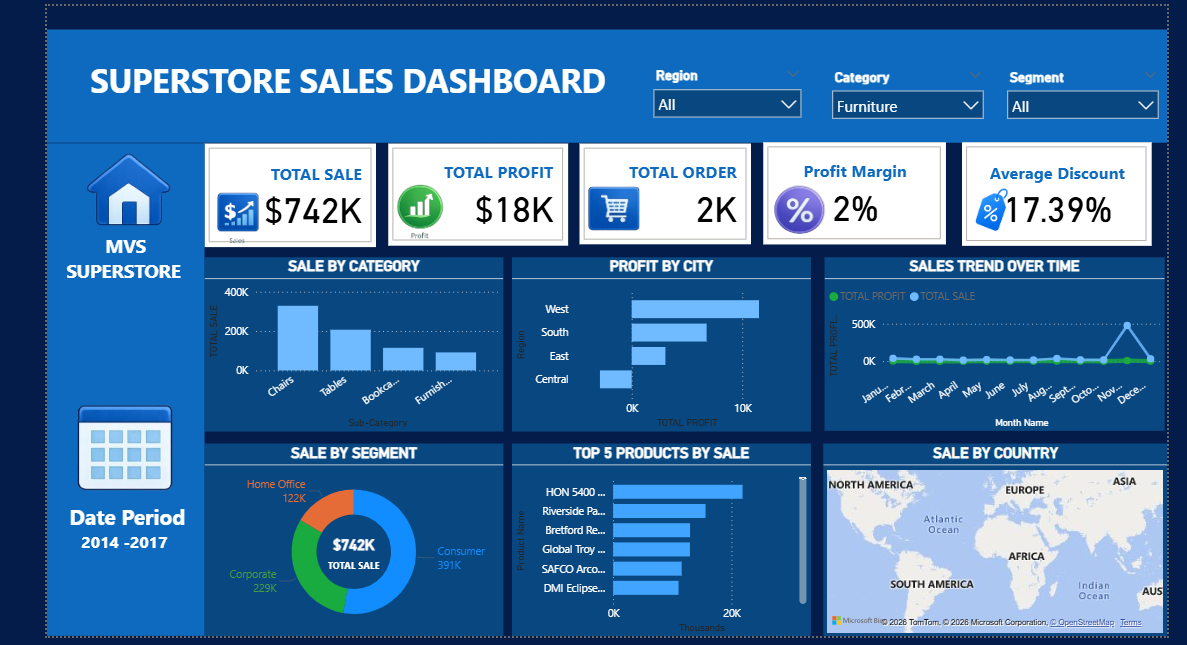

This screenshot's page, from the dashboard's own definition file:
{"tool":"powerbi","page":{"name":"Page 1","canvas":[1280,720],"ordinal":0},"visuals":[{"type":"shape","box":[0,27.4,1280.3,129],"z":0},{"type":"textbox","box":[62.9,27.1,715.7,101.4],"z":1000},{"type":"cardVisual","fields":{"Data":["Sample - Superstore.TOTAL SALE"]},"box":[179.8,156.4,196.2,118],"z":2000},{"type":"cardVisual","fields":{"Data":["Sample - Superstore.TOTAL PROFIT"]},"box":[389.7,157.8,205.8,116.6],"z":3000},{"type":"cardVisual","fields":{"Data":["Sample - Superstore.TOTAL ORDER"]},"box":[609.3,156.4,196.2,115.3],"z":4000},{"type":"cardVisual","fields":{"Data":["Sample - Superstore.Average Discount %"]},"box":[1045.6,155.1,216.8,118],"z":5000},{"type":"columnChart","title":" SALE BY CATEGORY","fields":{"Category":["Sample - Superstore.Sub-Category"],"Y":["Sample - Superstore.TOTAL SALE"]},"box":[179.8,286.8,341.7,199],"z":6000},{"type":"clusteredBarChart","title":"PROFIT BY CITY","fields":{"Y":["Sample - Superstore.TOTAL PROFIT"],"Category":["Sample - Superstore.Region"]},"box":[531,286.8,341.7,199],"z":7000},{"type":"lineChart","title":"SALES TREND OVER TIME","fields":{"Y":["Sample - Superstore.TOTAL PROFIT","Sample - Superstore.TOTAL SALE"],"Category":["Sample - Superstore.Month Name"]},"box":[888.6,287.1,388.6,198.6],"z":8000},{"type":"donutChart","title":" SALE BY SEGMENT","fields":{"Y":["Sum(Sample - Superstore.Sales)"],"Category":["Sample - Superstore.Segment"]},"box":[179.8,499.5,341.7,220.9],"z":9000},{"type":"clusteredBarChart","title":"TOP 5 PRODUCTS BY SALE ","fields":{"Category":["Sample - Superstore.Product Name"],"Y":["Sum(Sample - Superstore.Sales)"]},"box":[531,499.5,341.7,220.9],"z":10000},{"type":"filledMap","title":"SALE BY COUNTRY","fields":{"Series":["Sample - Superstore.Sales"],"Category":["Sample - Superstore.Region"]},"box":[886.5,499.5,393.8,220.9],"z":11000},{"type":"slicer","fields":{"Values":["Sample - Superstore.Region"]},"box":[683.4,65.9,189.4,63.1],"z":12000},{"type":"slicer","fields":{"Values":["Sample - Superstore.Category"]},"box":[887.8,67.2,193.5,61.7],"z":13000},{"type":"slicer","fields":{"Values":["Sample - Superstore.Segment"]},"box":[1086.8,67.2,193.5,61.7],"z":14000},{"type":"cardVisual","fields":{"Data":["Sample - Superstore.Profit Margin"]},"box":[819.2,155.1,208.6,116.6],"z":15000},{"type":"shape","box":[0,157.8,179.8,562.6],"z":16000},{"type":"textbox","box":[0,253.9,179.8,105.7],"z":17000},{"type":"cardVisual","fields":{"Data":["Sample - Superstore.TOTAL SALE"]},"box":[299.1,588.7,104.3,68.6],"z":18000},{"type":"image","box":[180,168.6,75.7,134.3],"z":19000},{"type":"image","box":[312.9,195.7,228.6,78.6],"z":20000},{"type":"image","box":[12.9,424.3,154.3,152.9],"z":21000},{"type":"image","box":[608.6,171.4,90,101.4],"z":22000},{"type":"image","box":[818.6,187.1,82.9,92.9],"z":23000},{"type":"image","box":[10,154.3,180,118.6],"z":24000},{"type":"image","box":[1045.7,191.4,68.6,84.3],"z":25000},{"type":"textbox","box":[10,562.9,157.1,84.3],"z":26000},{"type":"textbox","box":[62.9,78.6,532.9,50],"z":27000}]}

Visuals, with their boxes on the page's 1280x720 design canvas (x1, y1, x2, y2). These are canvas units, not pixel positions in the 1187x645 screenshot, which may show the page scaled, cropped or inside an application window:
shape: 0,27,1280,156
textbox: 63,27,779,128
cardVisual - Sample - Superstore.TOTAL SALE: 180,156,376,274
cardVisual - Sample - Superstore.TOTAL PROFIT: 390,158,596,274
cardVisual - Sample - Superstore.TOTAL ORDER: 609,156,806,272
cardVisual - Sample - Superstore.Average Discount %: 1046,155,1262,273
" SALE BY CATEGORY" columnChart: 180,287,522,486
"PROFIT BY CITY" clusteredBarChart: 531,287,873,486
"SALES TREND OVER TIME" lineChart: 889,287,1277,486
" SALE BY SEGMENT" donutChart: 180,500,522,720
"TOP 5 PRODUCTS BY SALE " clusteredBarChart: 531,500,873,720
"SALE BY COUNTRY" filledMap: 886,500,1280,720
slicer - Sample - Superstore.Region: 683,66,873,129
slicer - Sample - Superstore.Category: 888,67,1081,129
slicer - Sample - Superstore.Segment: 1087,67,1280,129
cardVisual - Sample - Superstore.Profit Margin: 819,155,1028,272
shape: 0,158,180,720
textbox: 0,254,180,360
cardVisual - Sample - Superstore.TOTAL SALE: 299,589,403,657
image: 180,169,256,303
image: 313,196,542,274
image: 13,424,167,577
image: 609,171,699,273
image: 819,187,902,280
image: 10,154,190,273
image: 1046,191,1114,276
textbox: 10,563,167,647
textbox: 63,79,596,129
